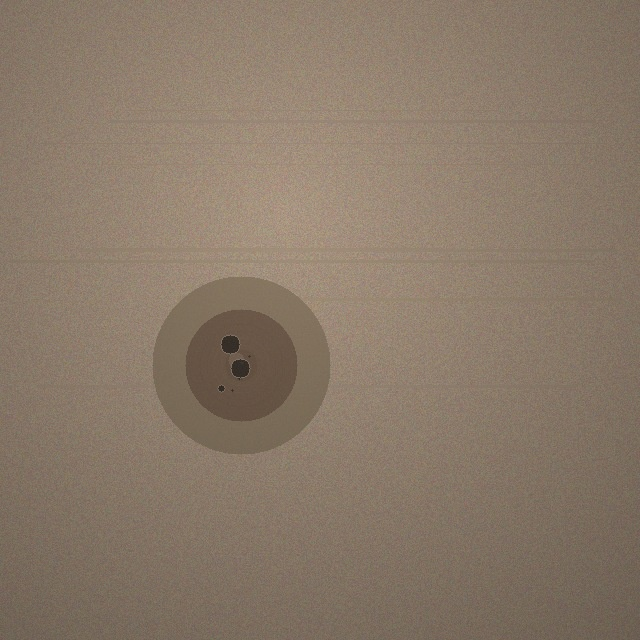shrinkage: (152, 276, 330, 454)
